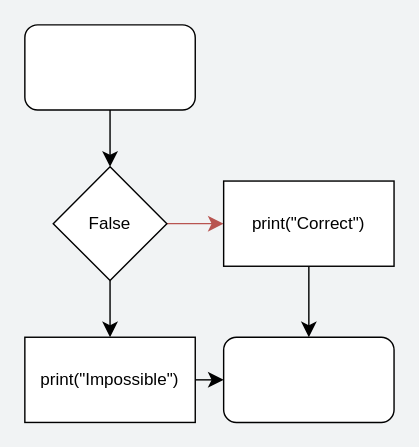
Some shapes in this 419 by 447 pixel diagram are drawn without their labels. The centre of each missing label's shape, as x and y in pixels:
"END" goes at pixel 308 379.
"START" goes at pixel 109 66.
